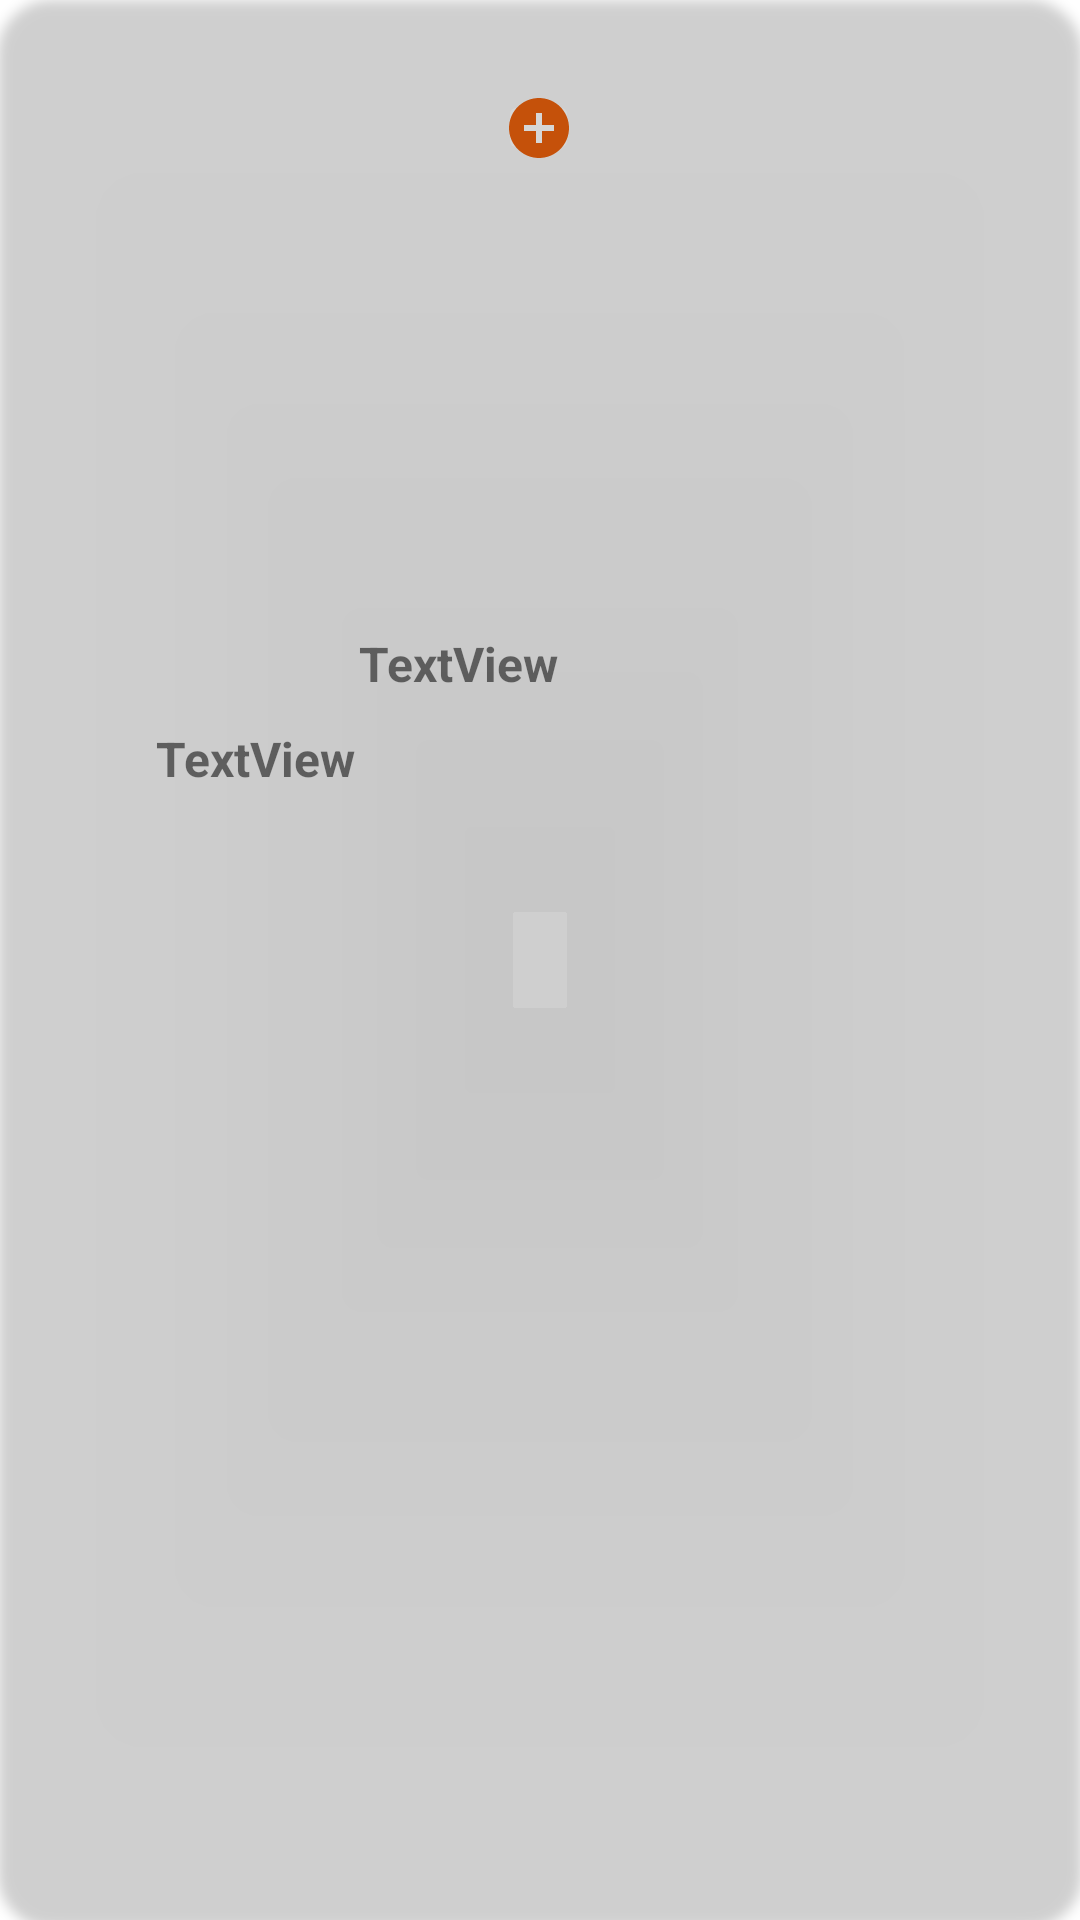

Point at icon controls on the screen. Image size 1080 x 1920, points as point (x, y).
add circle: point (539, 128)
